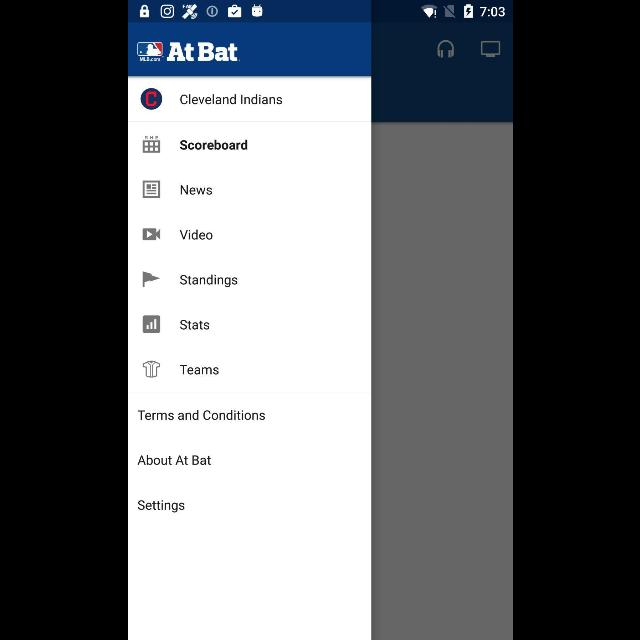icon: (142, 315, 160, 333), (142, 180, 160, 198)
image: (136, 42, 240, 62), (140, 88, 162, 110), (142, 360, 160, 378), (142, 136, 160, 154), (142, 272, 160, 288), (142, 228, 160, 240)
panel: (127, 25, 370, 640)
text: (136, 410, 264, 420), (180, 94, 282, 105), (137, 454, 211, 466), (179, 274, 237, 288), (179, 140, 247, 150), (136, 501, 184, 514), (180, 365, 218, 375), (178, 230, 212, 240), (180, 185, 212, 195), (179, 320, 209, 330)
uppertaskbar: (128, 1, 512, 23)
